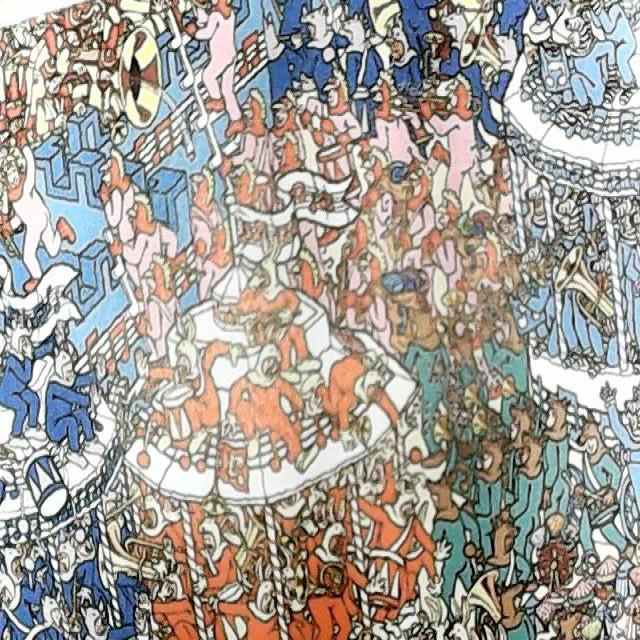waldo: (492, 208, 516, 255)
